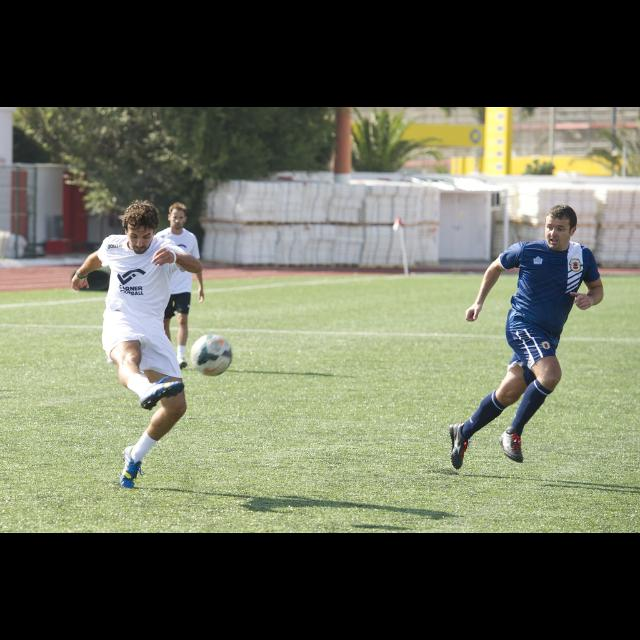Football: (187, 335, 235, 375)
